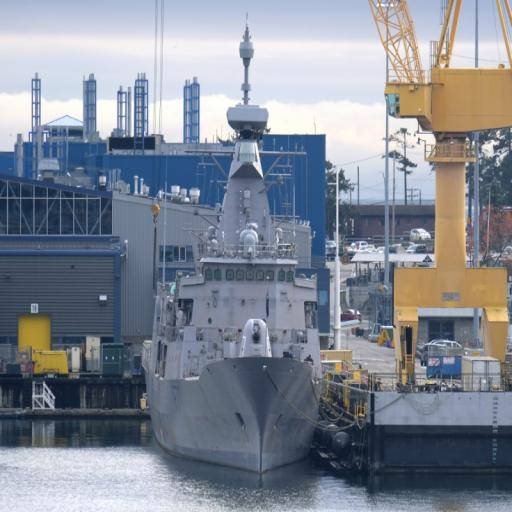Fragata: (143, 7, 327, 481)
